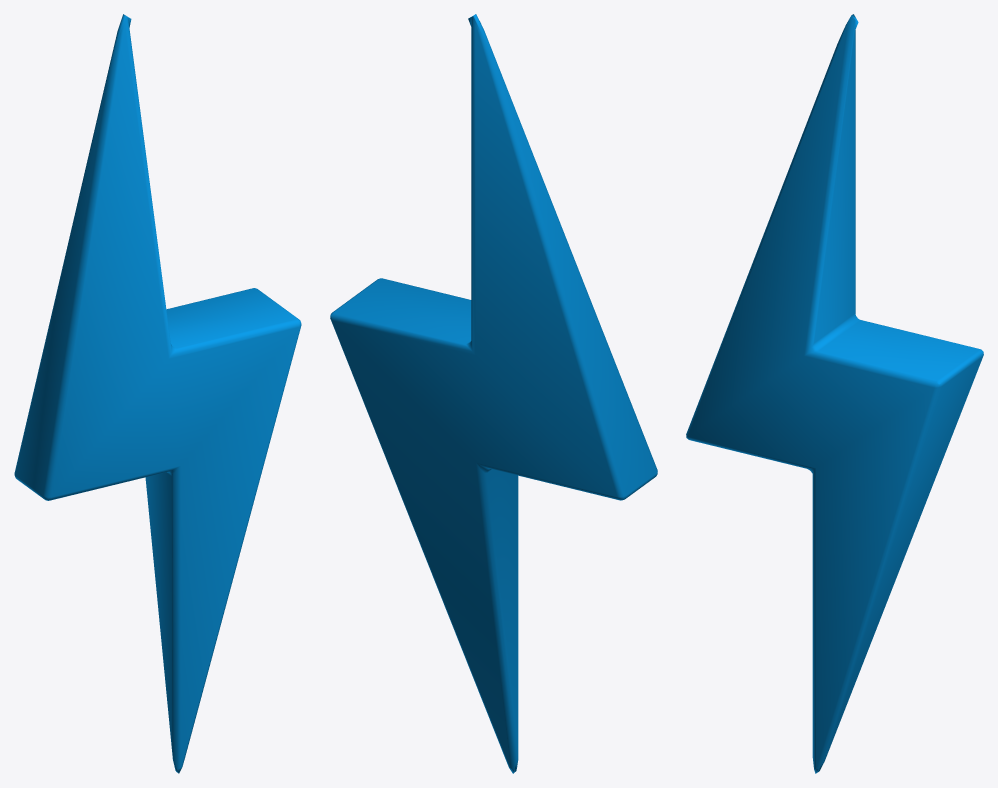
File: LightningBolt.glb
3 renders of one model, left to right at view 1: azimuth 30°, elevation 25°; view 2: azimuth 150°, elevation 25°; view 3: azimuth 330°, elevation 25°, orthographic. The views are drawn at different scales.
Visible parts, largest first — view 1: Cube; view 2: Cube; view 3: Cube.
Part boxes in pixels (box(x1,y1,x2,y2)): Cube: box(14, 14, 301, 773); Cube: box(330, 14, 657, 773); Cube: box(686, 14, 983, 773).
Size of the model in its own units: 0.1849 by 0.5 by 0.0596.
